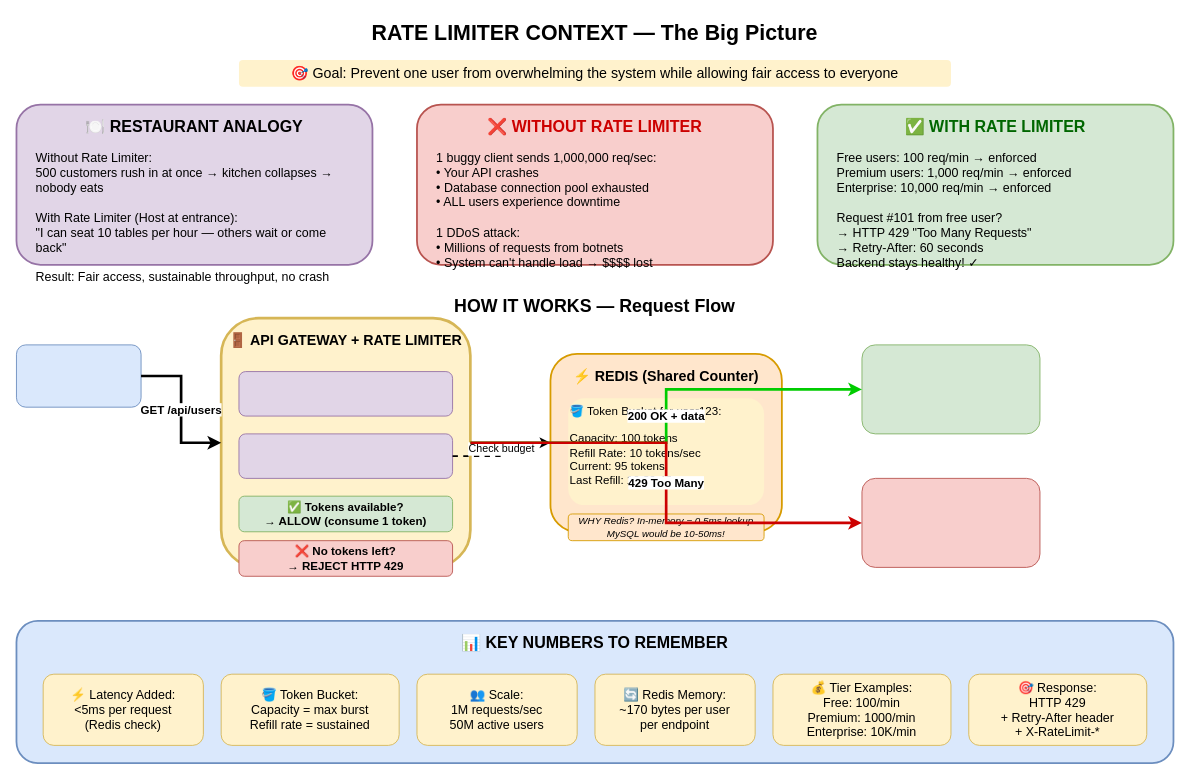
Some shapes in this 1189 by 779 pixel diagram are drawn without their labels. The shapes that lost their labels are listed below. From the top down, each one's centre as x and y in pixels, then its label:
point (78, 375): 👤 Client (User/App)
point (345, 393): STEP 1: Extract Identity (user_id / API key / IP)
point (950, 389): 🖥️ Backend Services (UserSvc, OrderSvc, etc.) Protected from overload!
point (345, 455): STEP 2: Check Redis "Does user123 have tokens left?"
point (950, 522): ❌ Client (rejected) Gets HTTP 429 Retry-After: 60s
